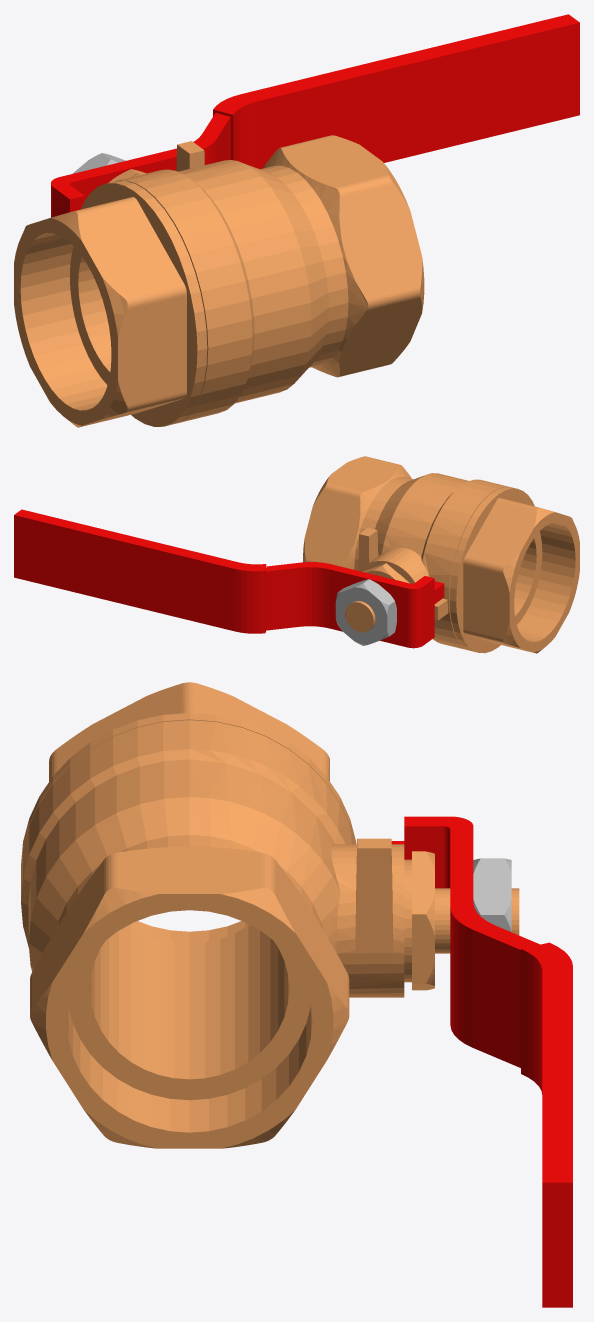
The model's file is Шаровой+кран+Ду+25+мм+(динамический).dae.
The picture shows the model from 3 angles, top to bottom: view 1: azimuth 30°, elevation 25°; view 2: azimuth 150°, elevation 25°; view 3: azimuth 270°, elevation 25°; orthographic projection. The views are drawn at different scales.
Parts seen in each view (by area): view 1: Ручка (×6); view 2: Ручка (×10), Гайка; view 3: Ручка (×6), Гайка.
Boxes of the visible parts, bbox=[...] form: Ручка (×6): bbox=[14, 14, 579, 427]; Ручка (×10): bbox=[14, 456, 579, 653]; Гайка: bbox=[335, 579, 396, 645]; Ручка (×6): bbox=[21, 682, 572, 1307]; Гайка: bbox=[473, 858, 511, 932].
Size of the model in its own units: 5.16 by 2.83 by 1.73.
